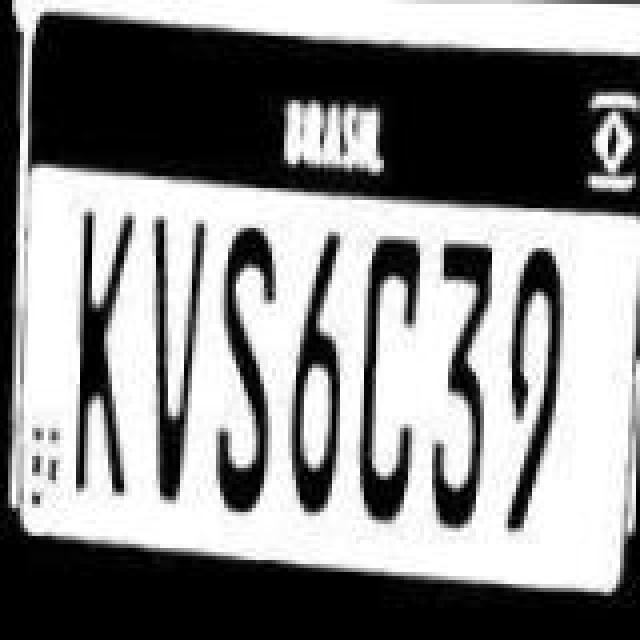3: (418, 222, 498, 542)
6: (268, 216, 352, 528)
9: (484, 224, 568, 540)
C: (344, 216, 420, 532)
K: (50, 194, 138, 506)
S: (196, 210, 280, 518)
V: (130, 202, 202, 518)
